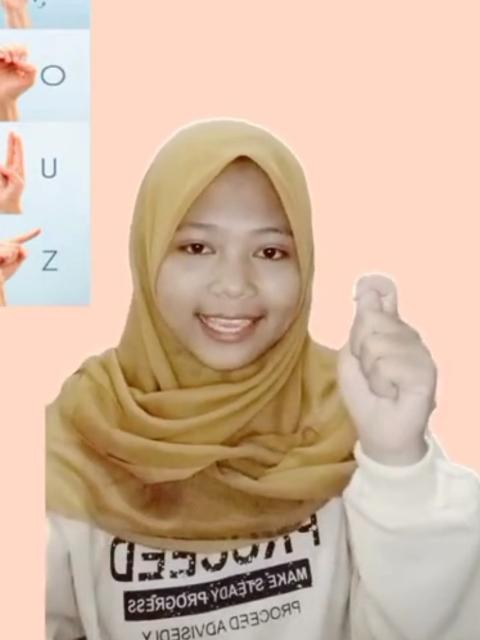T: (334, 270, 440, 442)
